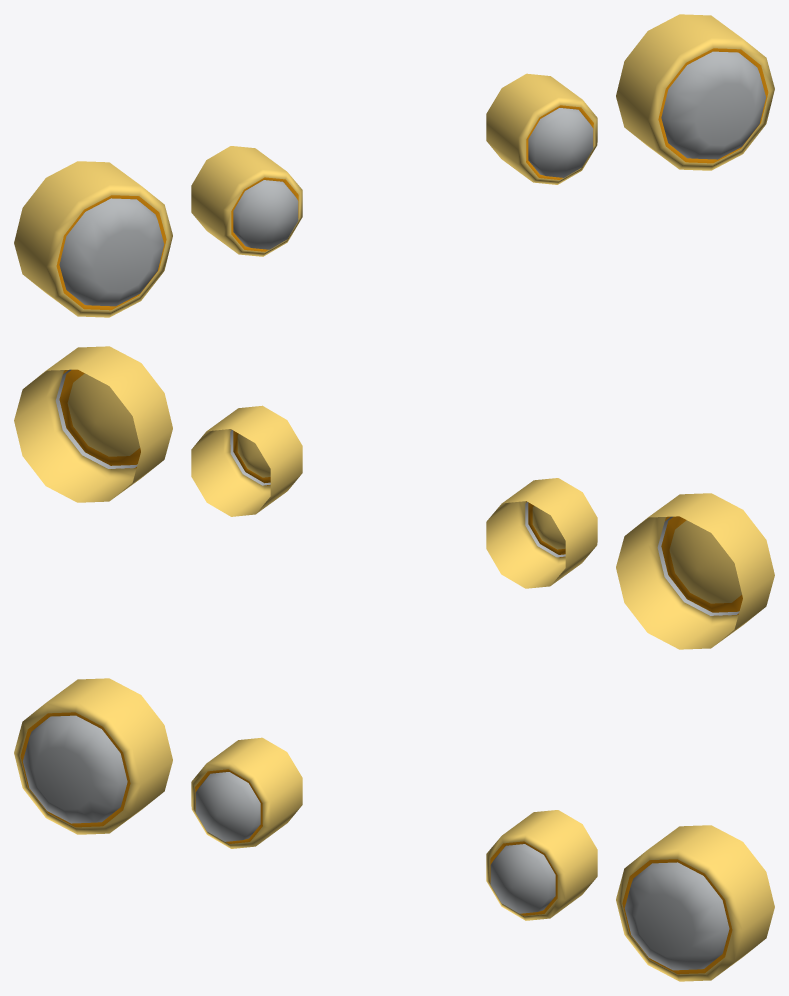
The model's file is Car_14_Headlight_Simple.fbx.
3 views of the same model, one above another, from view 1: azimuth 30°, elevation 25°; view 2: azimuth 150°, elevation 25°; view 3: azimuth 330°, elevation 25° (orthographic).
Visible parts, largest first — view 1: Car_14_Headlight_Simple; view 2: Car_14_Headlight_Simple; view 3: Car_14_Headlight_Simple.
Part boxes in pixels (x1=…): Car_14_Headlight_Simple: x1=14, y1=14, x2=774, y2=317; Car_14_Headlight_Simple: x1=14, y1=346, x2=774, y2=649; Car_14_Headlight_Simple: x1=14, y1=678, x2=774, y2=981.
Size of the model in its own units: 125 by 13.73 by 21.91.
